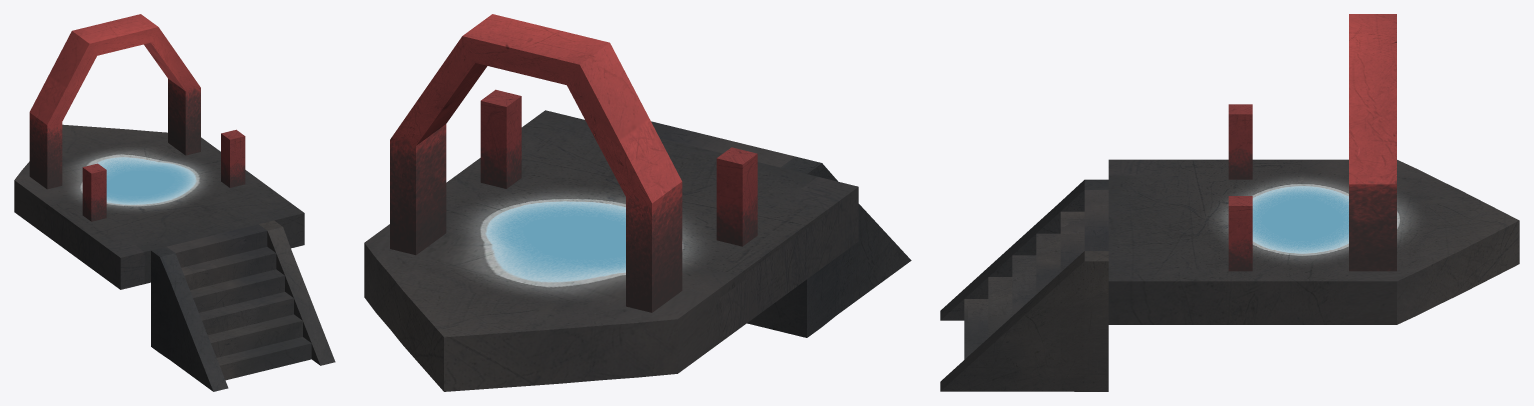
The model's file is SummonAltar1.fbx.
The picture shows the model from 3 angles, left to right: view 1: azimuth 30°, elevation 25°; view 2: azimuth 150°, elevation 25°; view 3: azimuth 270°, elevation 25°; orthographic projection. The views are drawn at different scales.
Visible parts, largest first — view 1: SummonAltar1; view 2: SummonAltar1; view 3: SummonAltar1.
Part boxes in pixels (x1,y1,x2,y2): SummonAltar1: (14,14,335,391); SummonAltar1: (364,14,911,391); SummonAltar1: (940,14,1519,391).
Size of the model in its own units: 12 by 14.43 by 24.11.
